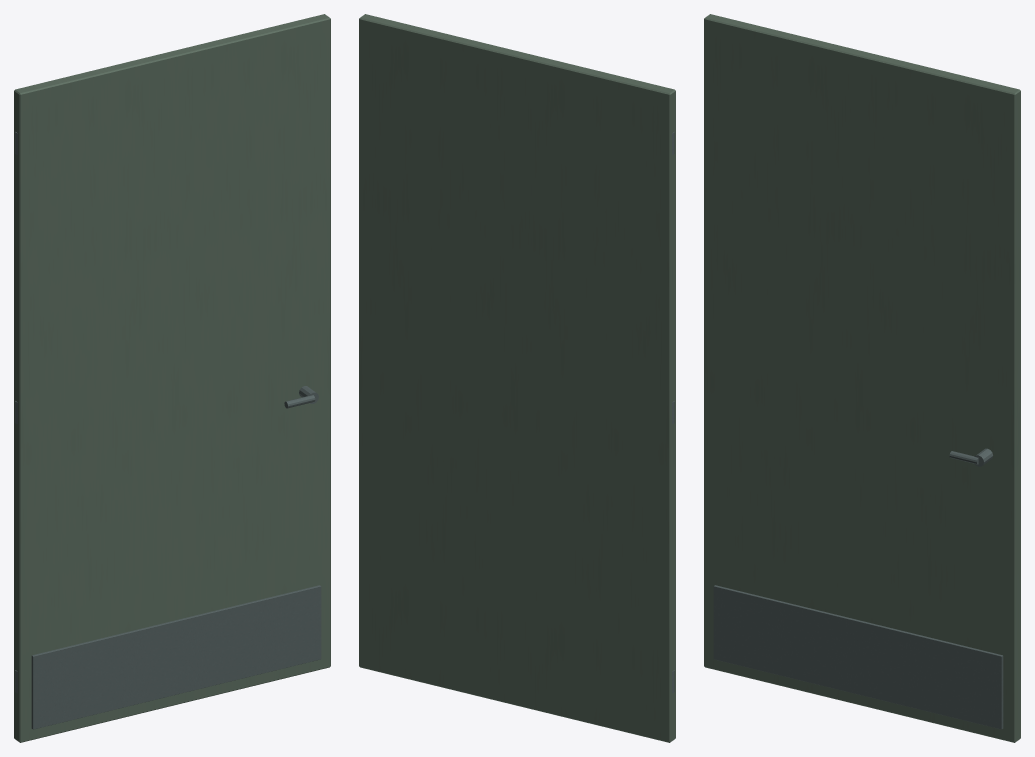
File: stockroom_door_leaf.glb
3 views of the same model, side by side, from view 1: azimuth 30°, elevation 25°; view 2: azimuth 150°, elevation 25°; view 3: azimuth 330°, elevation 25° (orthographic).
Visible parts, largest first — view 1: stockroom_door_leaf; view 2: stockroom_door_leaf; view 3: stockroom_door_leaf.
Part boxes in pixels (x1,y1,x2,y2): stockroom_door_leaf: [14, 14, 330, 742]; stockroom_door_leaf: [359, 14, 675, 742]; stockroom_door_leaf: [704, 14, 1020, 742].
Bounding box in the file's own units: 1.2 × 2.39 × 0.116.
Materials: 2 (2 with a texture image).
